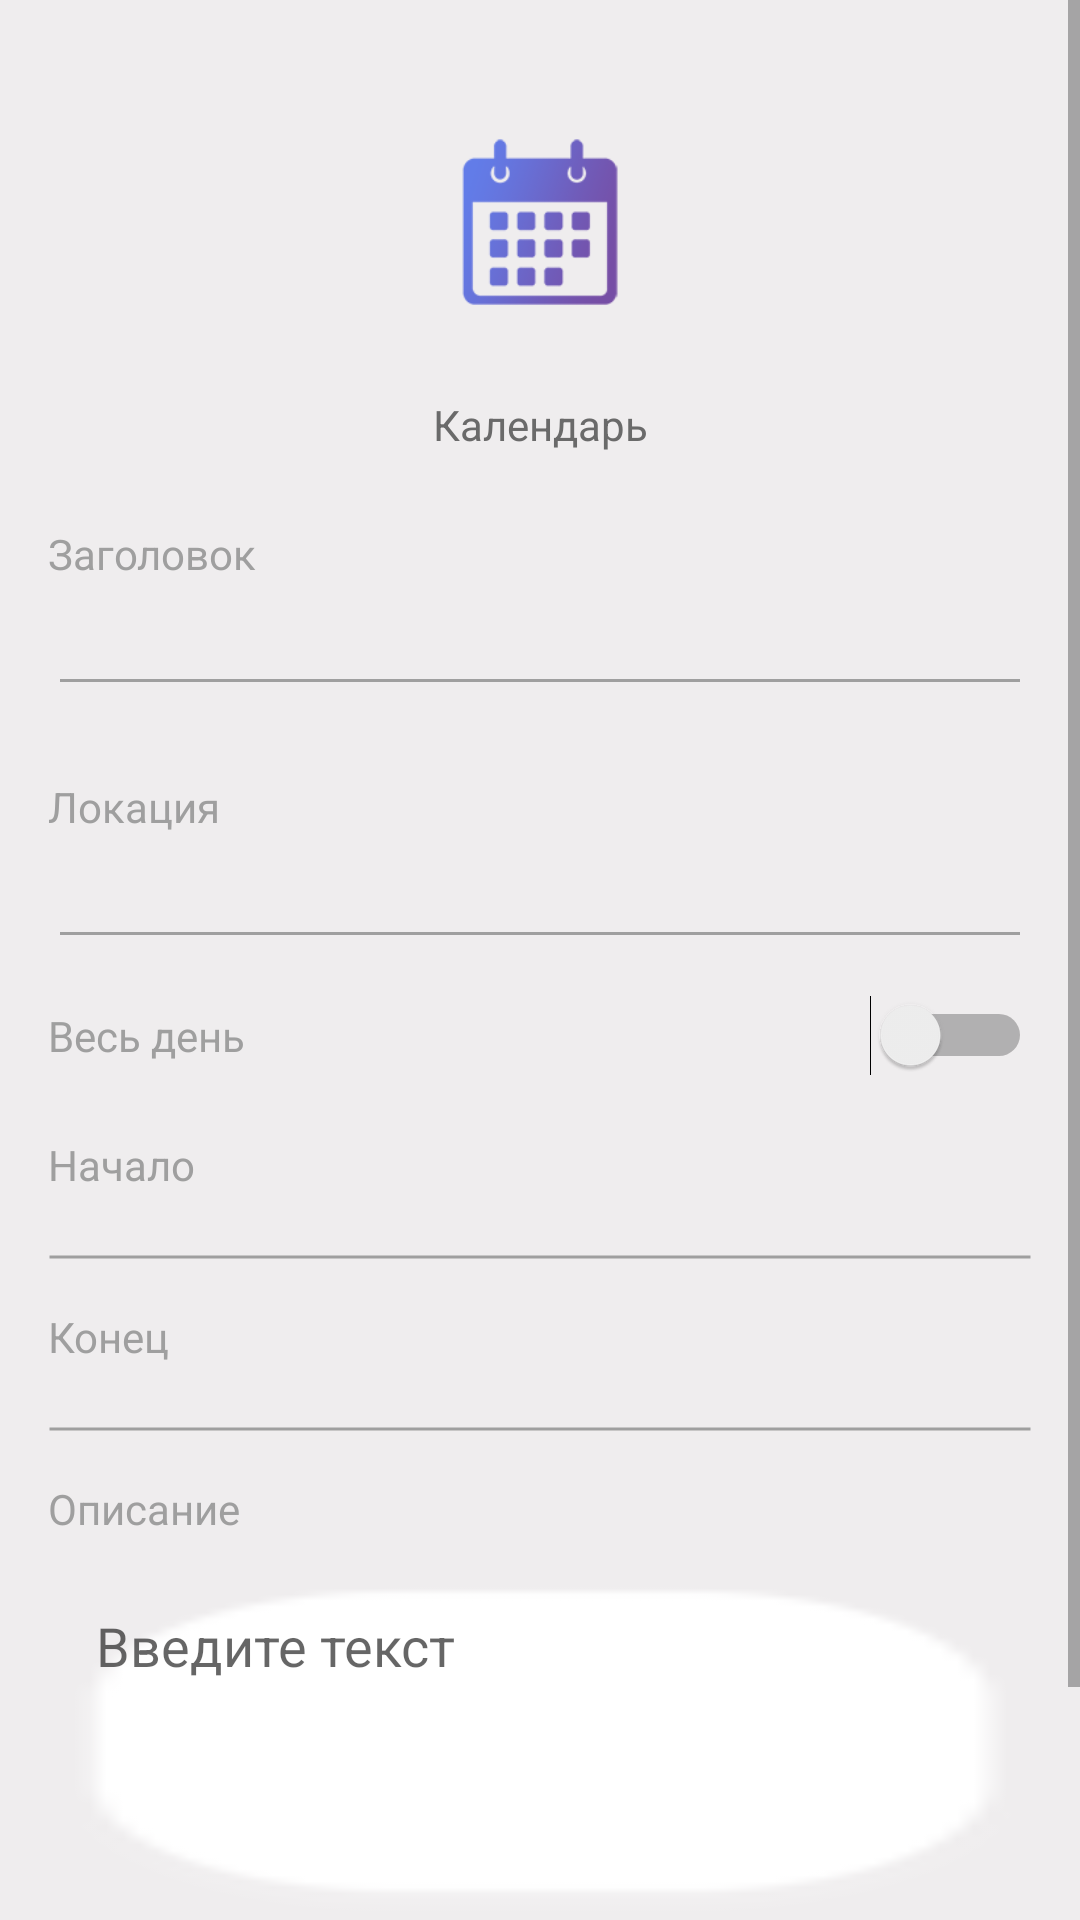

Named icons in this screenshot (1080*1920) and their bounding boxes, {"x1": x1, "y1": y1, "x2": x2, "y2": y2}:
calendar: {"x1": 462, "y1": 139, "x2": 618, "y2": 305}
